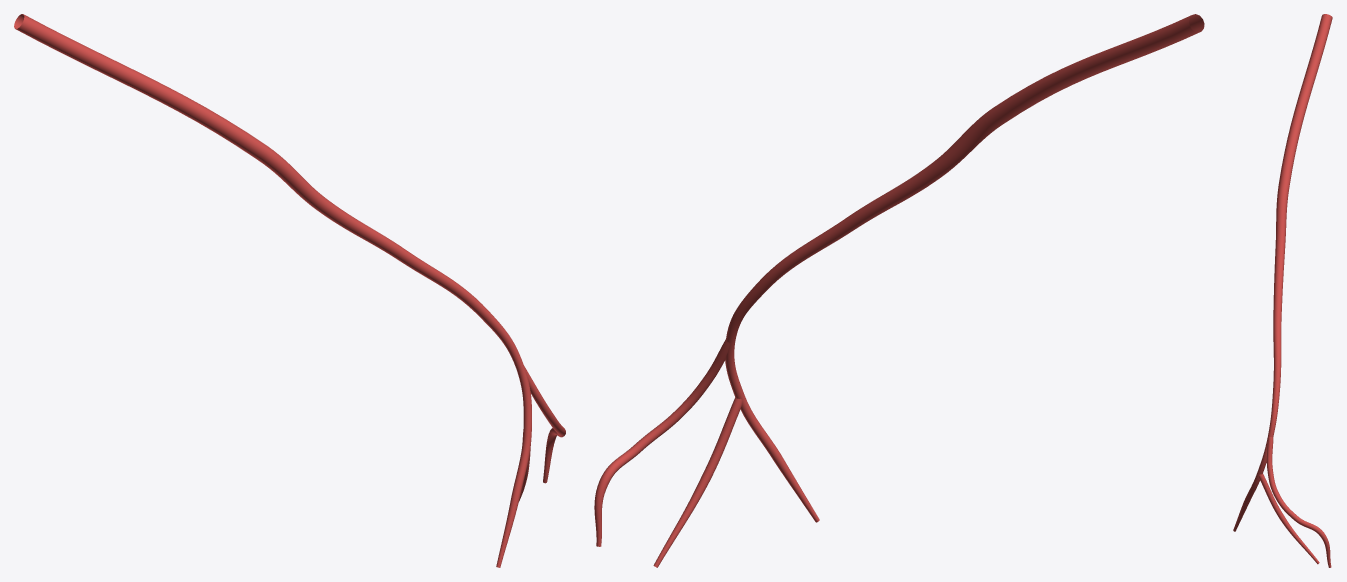
The picture shows the model from 3 angles, left to right: view 1: azimuth 30°, elevation 25°; view 2: azimuth 150°, elevation 25°; view 3: azimuth 270°, elevation 25°; orthographic projection. The views are drawn at different scales.
Visible parts, largest first — view 1: 左侧泪腺动脉; view 2: 左侧泪腺动脉; view 3: 左侧泪腺动脉.
Boxes of the visible parts, x1,y1,x2,y2 form: 左侧泪腺动脉: (14, 14, 565, 567); 左侧泪腺动脉: (594, 14, 1204, 567); 左侧泪腺动脉: (1233, 14, 1332, 567).
Bounding box in the file's own units: 0.0428 × 0.0466 × 0.0106.
